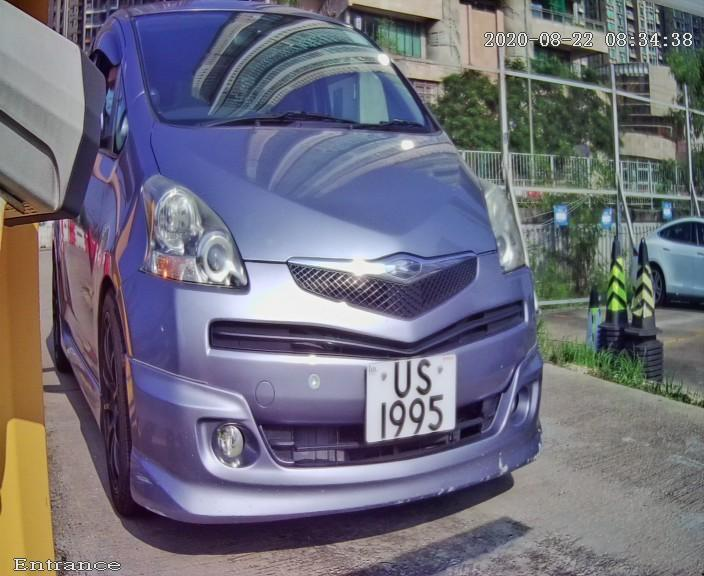License Plate: (359, 343, 466, 458)
